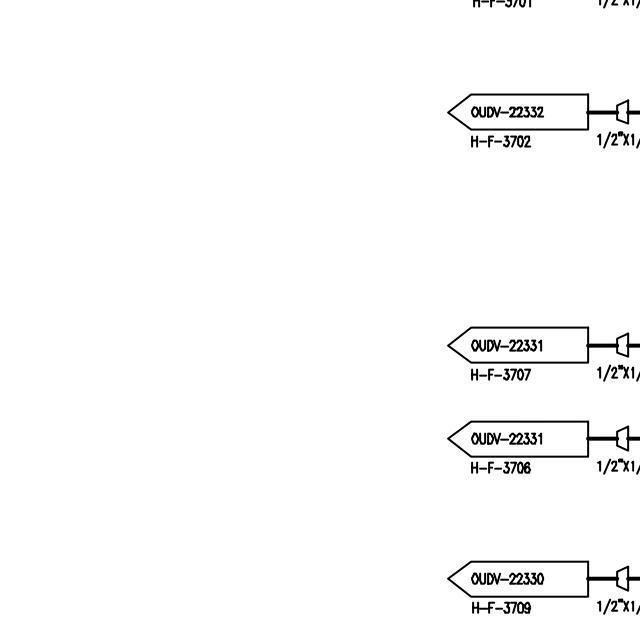SP: (610, 330, 633, 359), (612, 561, 633, 591), (610, 98, 633, 125), (610, 425, 631, 453)
